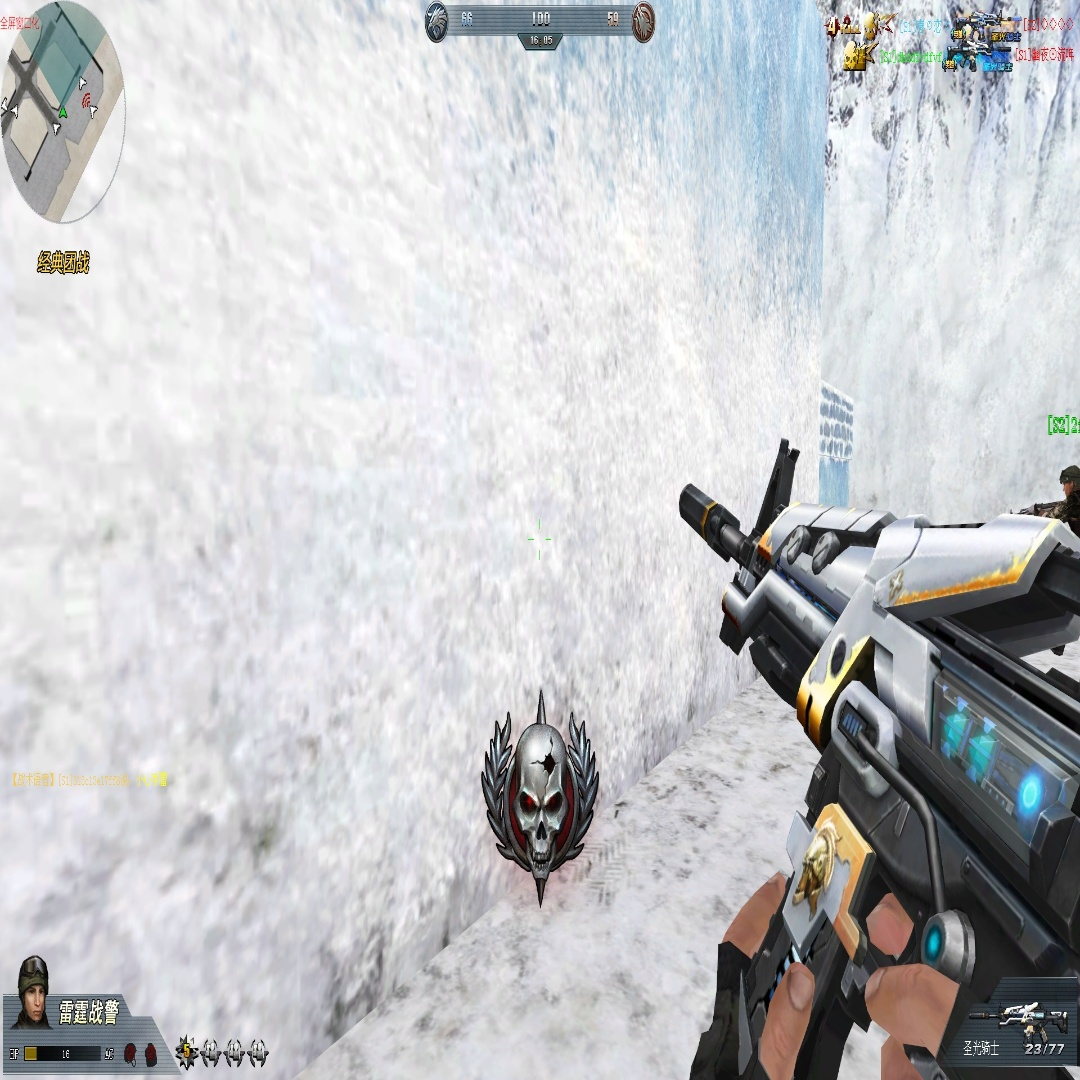ct: (1045, 464, 1080, 543)
